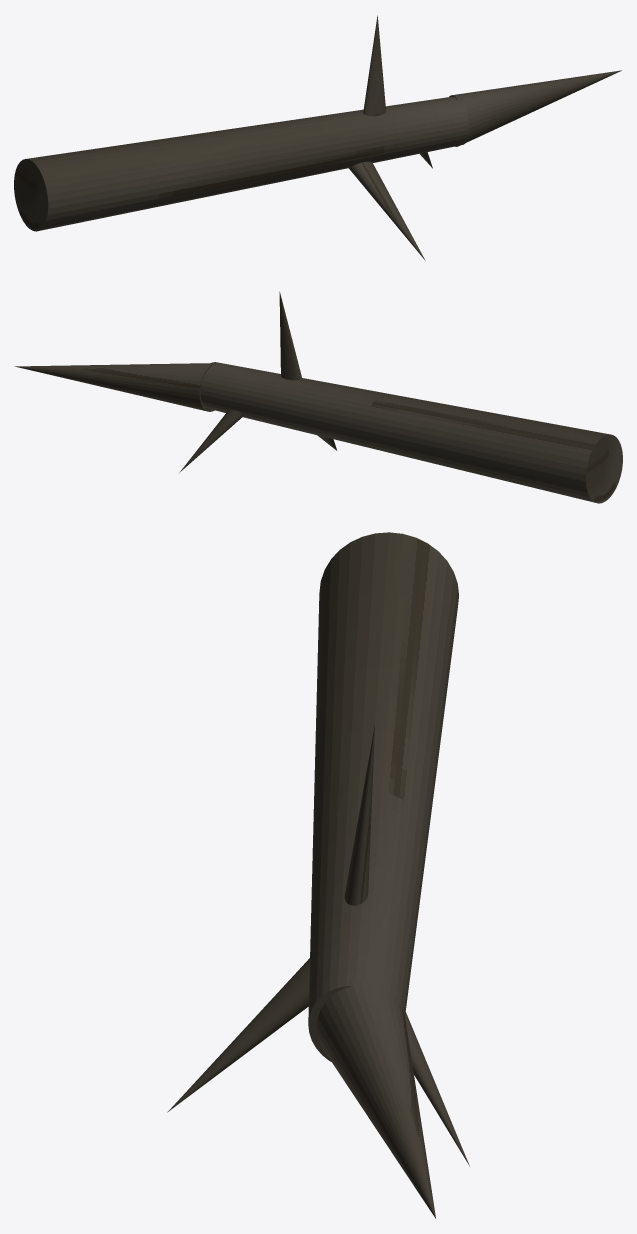
File: ObjectFelledDeadTree.dae
3 renders of one model, top to bottom at view 1: azimuth 30°, elevation 25°; view 2: azimuth 150°, elevation 25°; view 3: azimuth 270°, elevation 25°, orthographic. The views are drawn at different scales.
Parts seen in each view (by area): view 1: Cylinder, Cone, Cone.001, Cone.003; view 2: Cylinder, Cone, Cone.003, Cone.002; view 3: Cylinder, Cone, Cone.001, Cone.003, Cone.002.
Boxes of the visible parts, x1=… form: Cylinder: x1=14, y1=96, x2=468, y2=231; Cone: x1=449, y1=70, x2=621, y2=146; Cone.001: x1=348, y1=161, x2=425, y2=260; Cone.003: x1=363, y1=15, x2=385, y2=116; Cylinder: x1=200, y1=362, x2=622, y2=503; Cone: x1=14, y1=363, x2=215, y2=411; Cone.003: x1=279, y1=291, x2=302, y2=380; Cone.002: x1=179, y1=410, x2=243, y2=472; Cylinder: x1=308, y1=532, x2=458, y2=1061; Cone: x1=317, y1=980, x2=435, y2=1218; Cone.001: x1=167, y1=958, x2=309, y2=1112; Cone.003: x1=344, y1=725, x2=374, y2=905; Cone.002: x1=405, y1=1012, x2=469, y2=1166.
Bounding box in the file's own units: 6.74 × 1.53 × 2.19.
